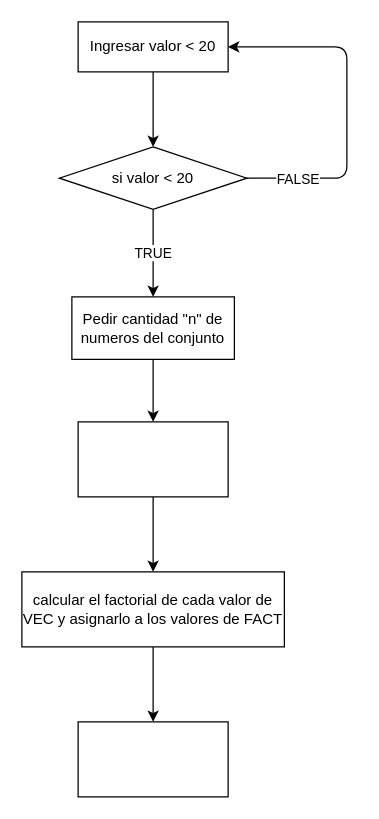
Some shapes in this 379 by 819 pixel diagram are drawn without their labels. The centre of each missing label's shape, as x and y in pixels:
"imprimir los valores de VEC y FACT" belongs at point 152,759.
"Pedir los valores del conjunto VEC" belongs at point 152,459.
